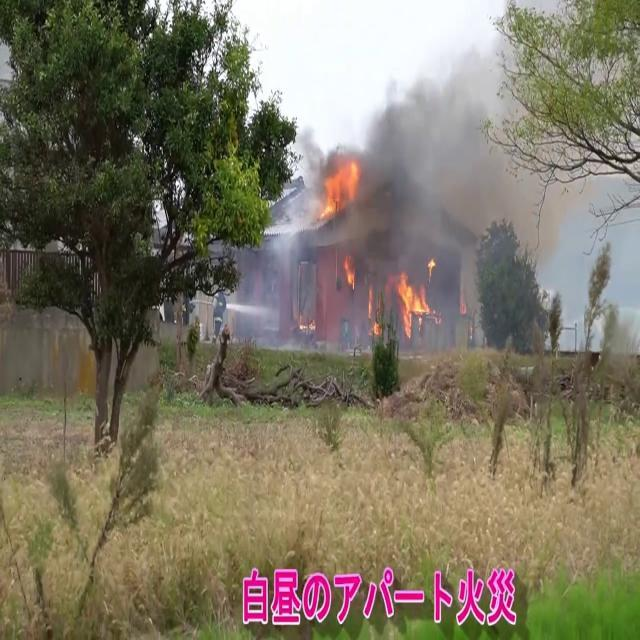Fire: (314, 150, 364, 223), (390, 263, 438, 333)
Smoke: (356, 27, 560, 338)
